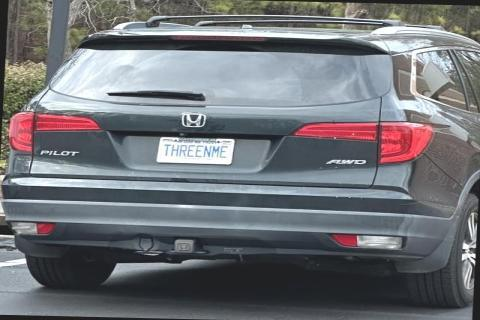LicensePlate: (153, 135, 234, 164)
